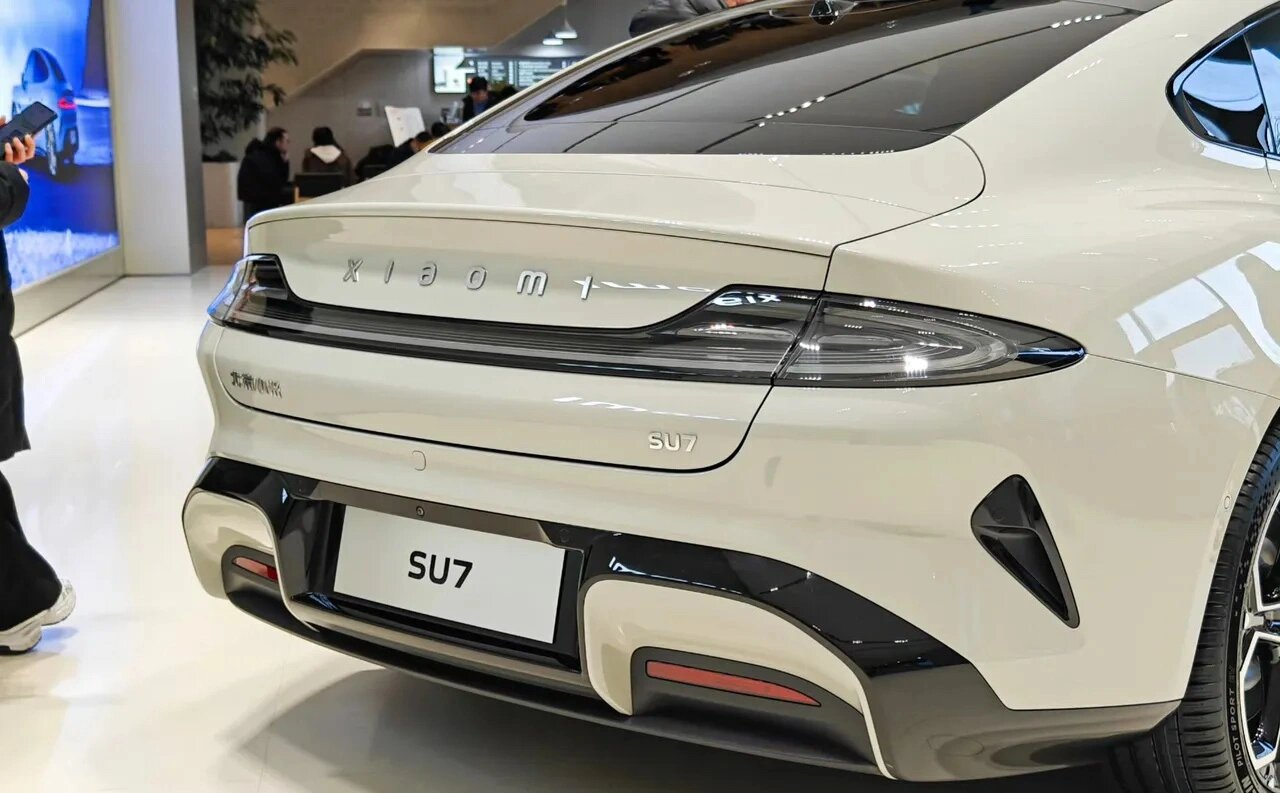su7: (197, 0, 1280, 789)
